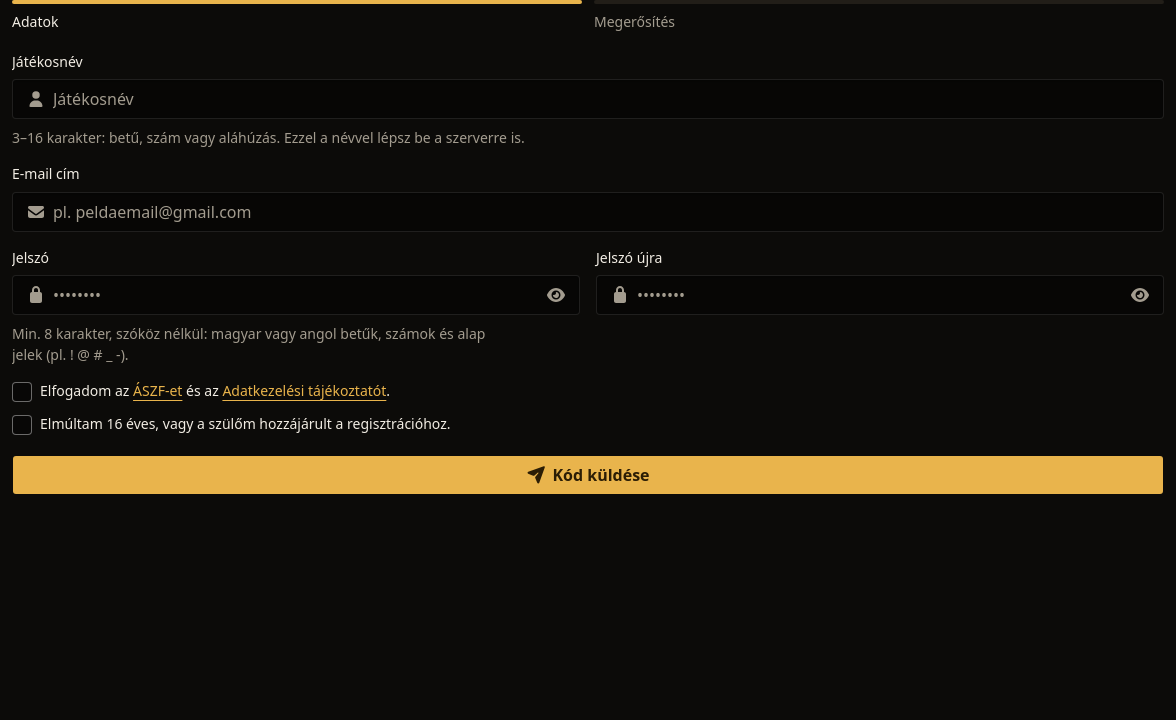
Test case: how long the page says the registration code works › with the visitor clock right the page says what the e-mail says
Type "Steve_01" into the field labelled "Játékosnév" at (588, 99), box [12, 79, 1164, 119]
Type "steve@example.com" into the field labelled "E-mail cím" at (588, 212), box [12, 192, 1164, 232]
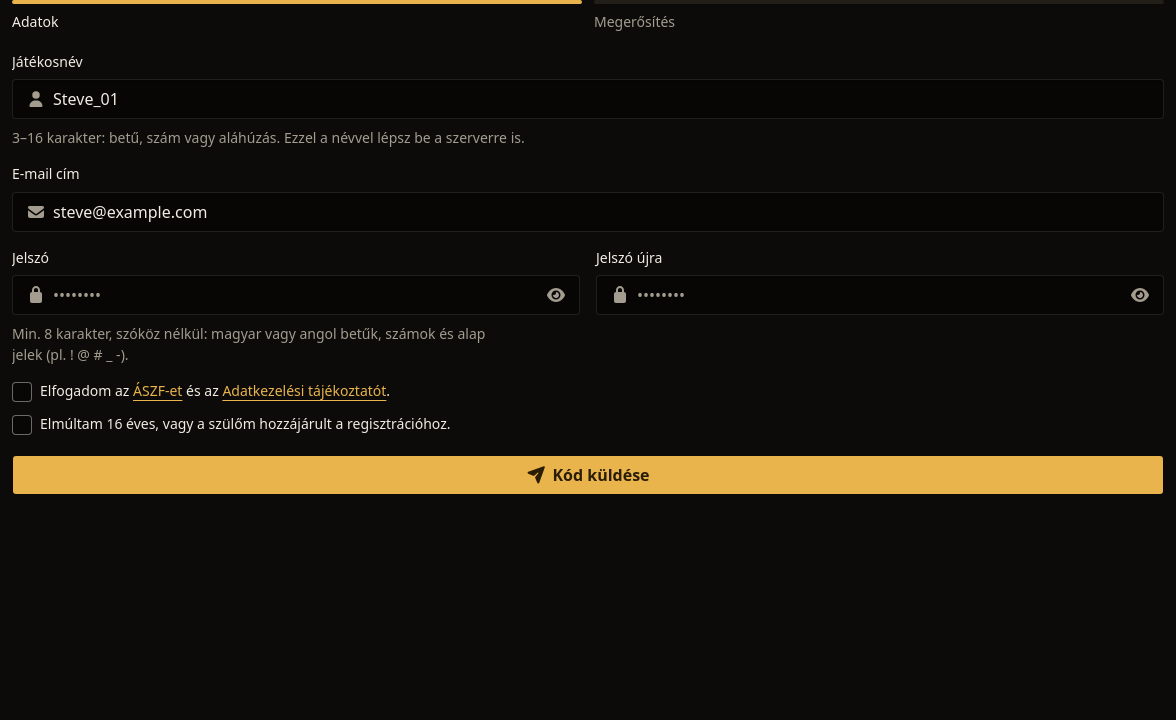
Type "jelszo-2026" into the password field labelled "Jelszó" at (296, 295), box [12, 275, 580, 315]
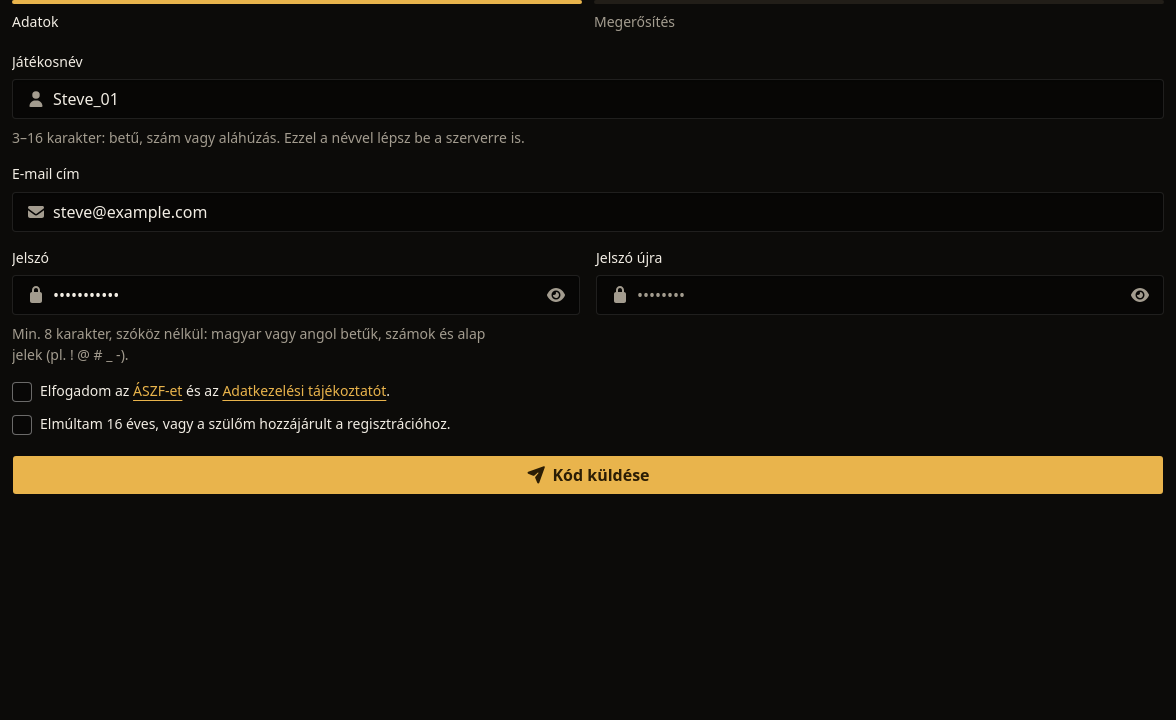
Type "jelszo-2026" into the password field labelled "Jelszó újra" at (880, 295), box [596, 275, 1164, 315]
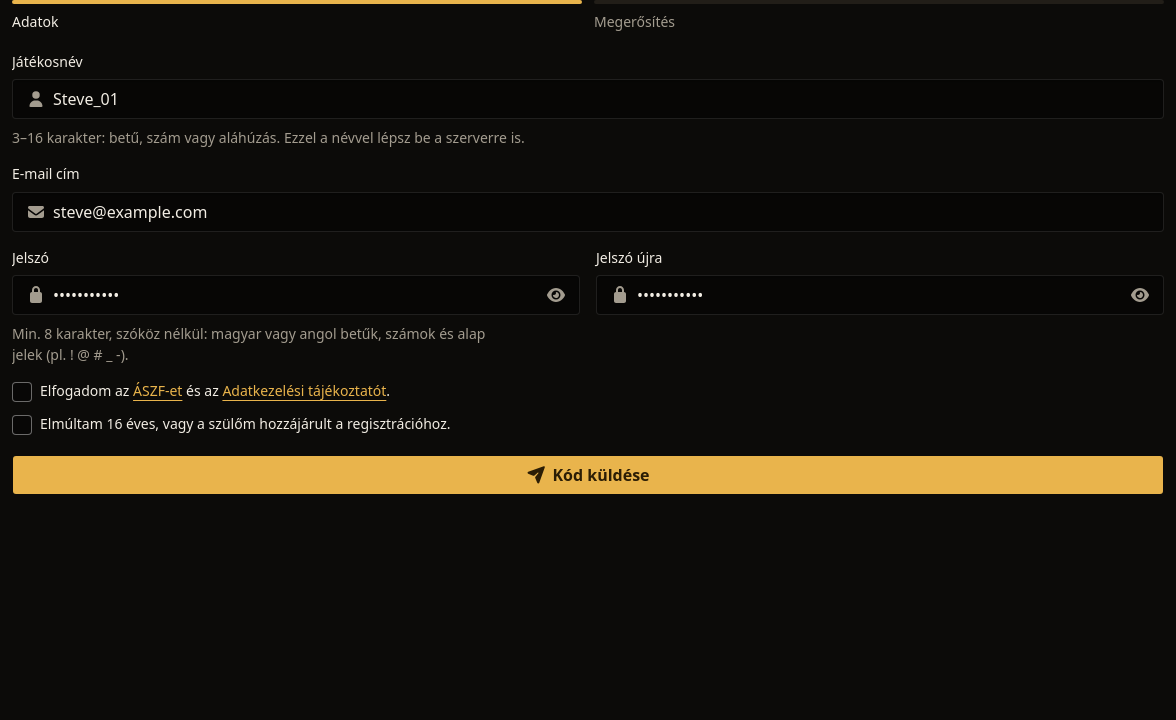
Click the checkbox next to "Elfogadom" at (22, 392), box [12, 382, 32, 402]
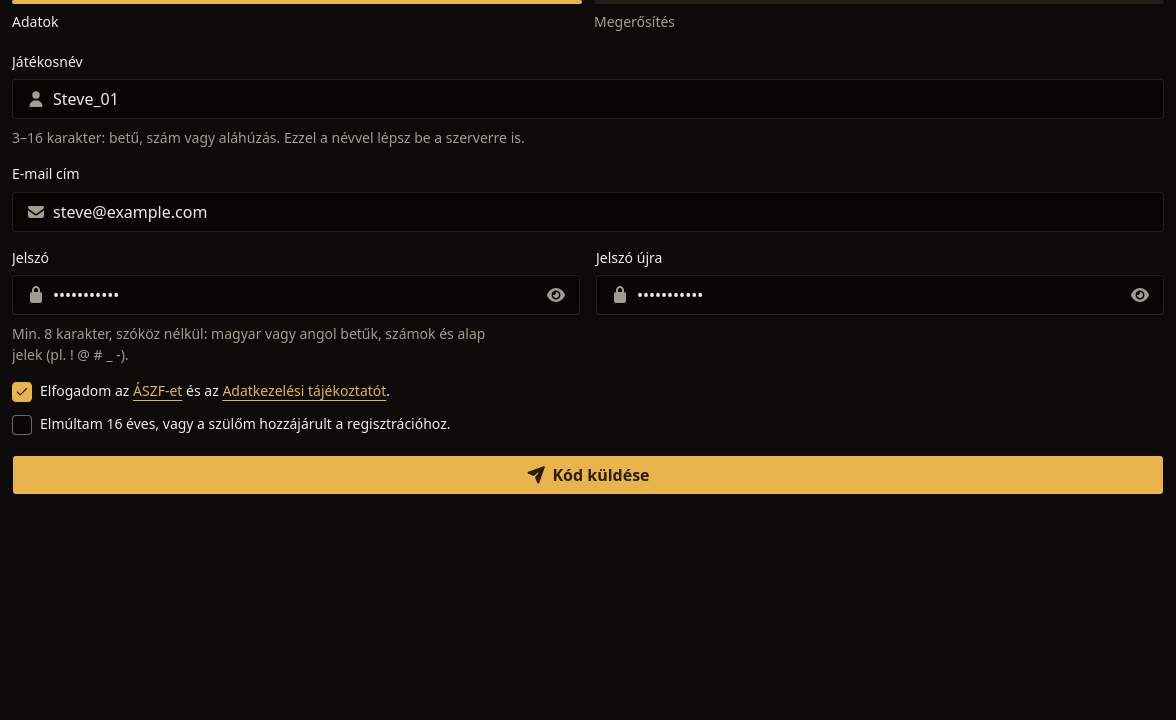
Click the 3rd checkbox at (22, 425), box [12, 415, 32, 435]
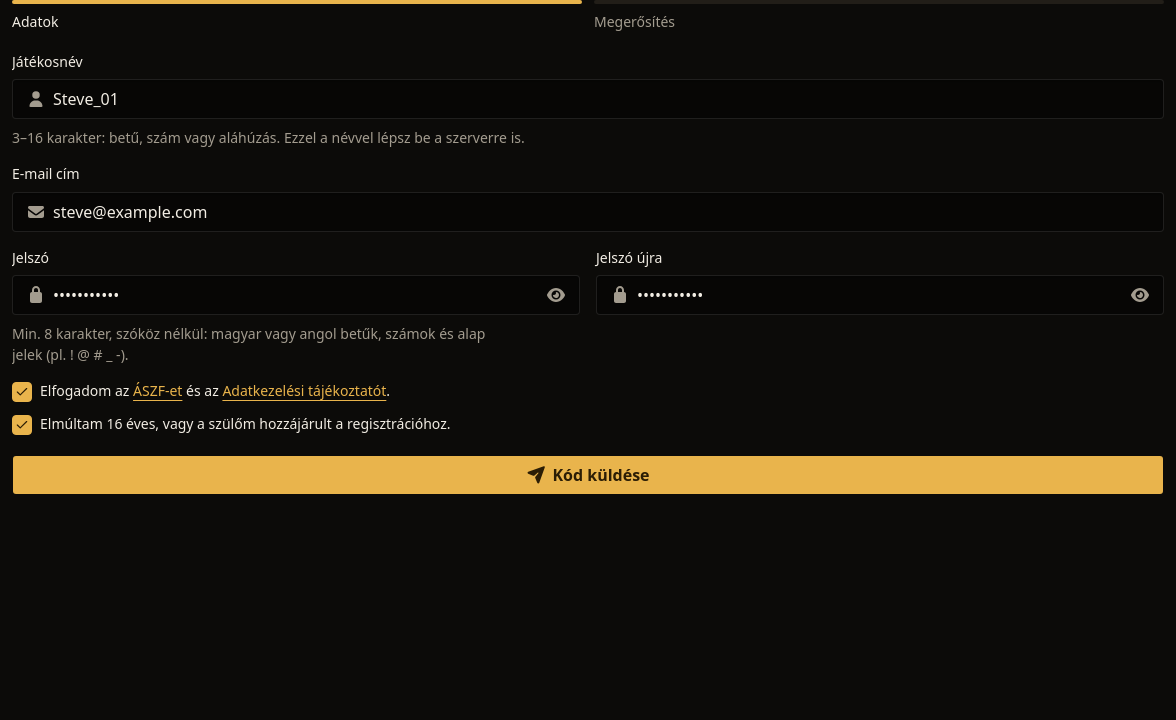
Click the button "Kód küldése" at (588, 475), box [12, 455, 1164, 495]
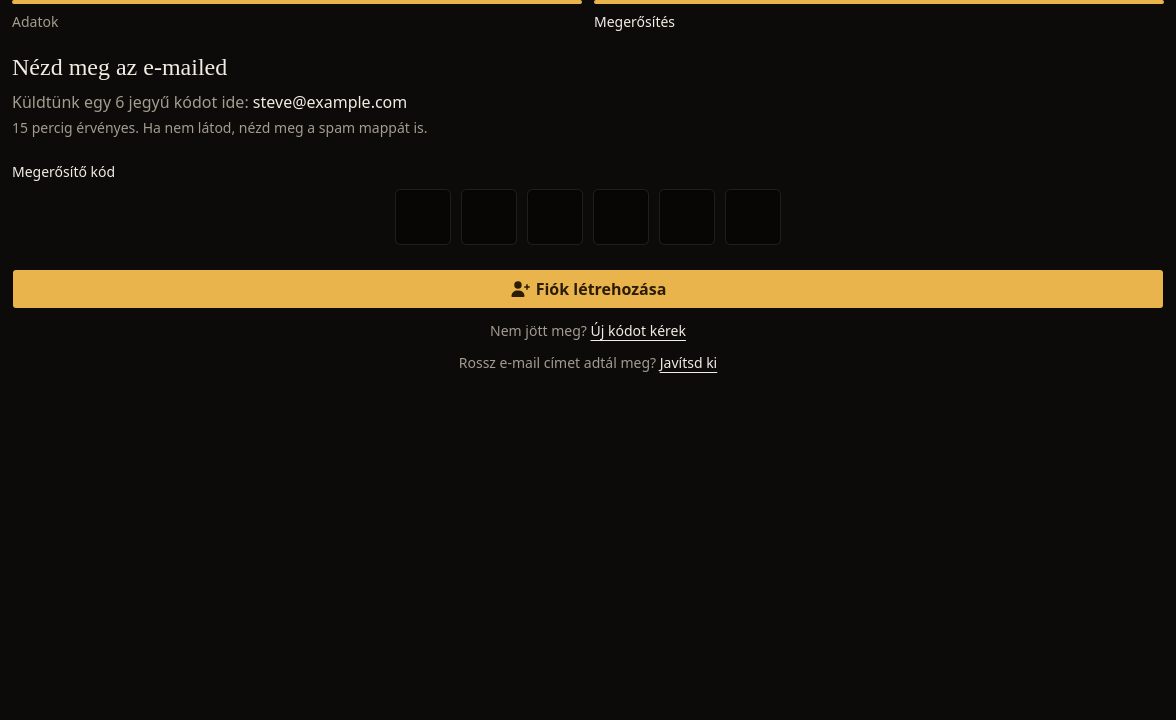
Now the heading "Nézd meg az e-mailed" is shown, box [12, 54, 227, 80]
